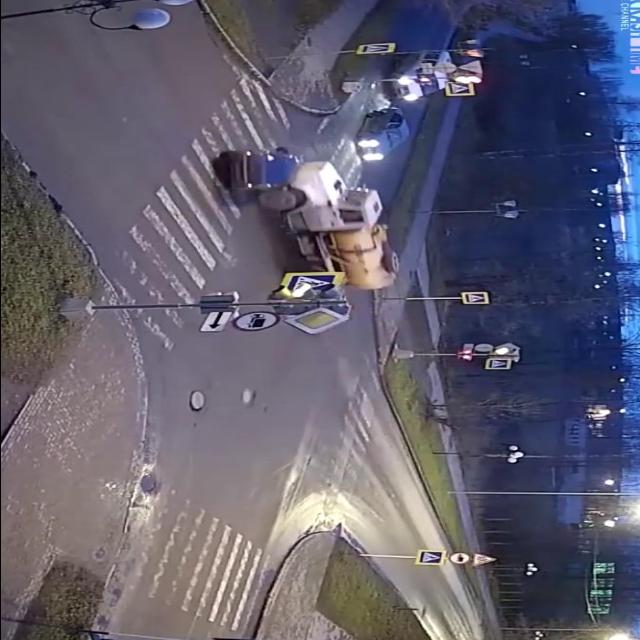accident: (203, 132, 417, 313)
